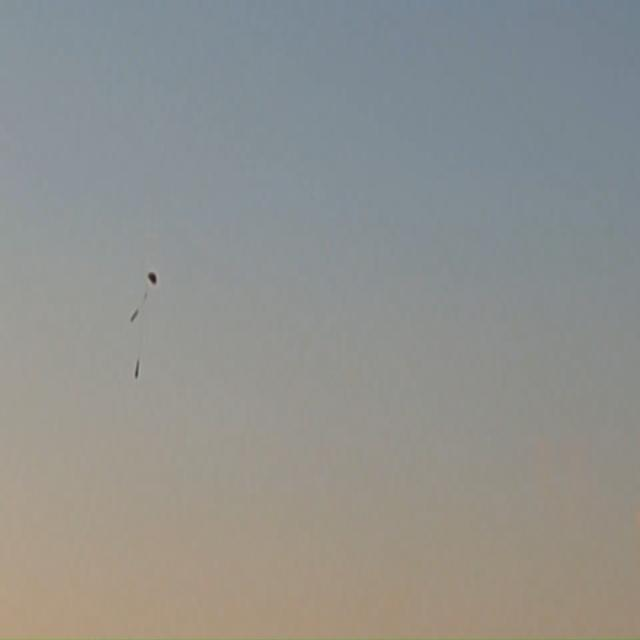Rocket: (134, 359, 139, 378)
